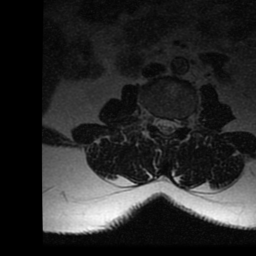CCS_normal: (162, 112, 169, 142)
LFS_normal: (177, 112, 186, 134)
LLS_normal: (169, 112, 177, 137)
RFS_normal: (148, 108, 155, 130)
RLS_normal: (155, 113, 162, 137)
